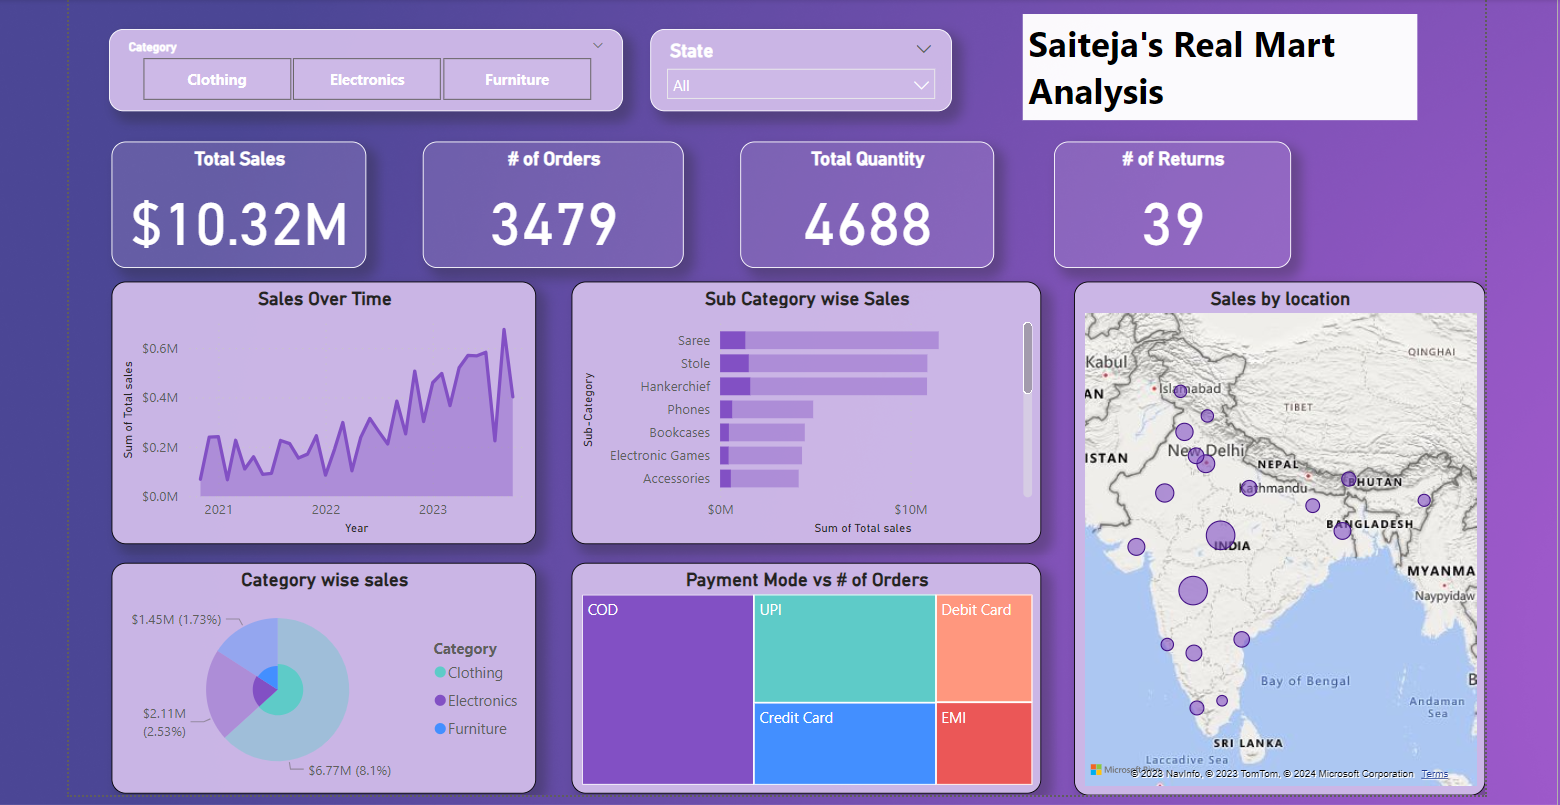

Layout of this report page (visuals, bound fields, positions):
{"tool":"powerbi","page":{"name":"Page 1","canvas":[1280,720],"ordinal":0},"visuals":[{"type":"card","title":"Total Sales","fields":{"Values":["Dataset.Total sales"]},"box":[38.4,128.9,230.6,114.2],"z":0},{"type":"card","title":"# of Returns","fields":{"Values":["Dataset.Returns"]},"box":[890.7,128.9,214.8,114.2],"z":1000},{"type":"card","title":"Total Quantity","fields":{"Values":["Dataset.Net quantity"]},"box":[607,128.9,229.5,114.2],"z":2000},{"type":"card","title":"# of Orders","fields":{"Values":["Dataset.Order ID"]},"box":[319.9,128.9,236.2,114.2],"z":3000},{"type":"stackedAreaChart","title":"Sales Over Time","fields":{"Category":["Dataset.Date.Variation.Date Hierarchy.Year","Dataset.Date.Variation.Date Hierarchy.Month"],"Y":["Dataset.Total sales"]},"box":[38.4,255.4,384.3,237.4],"z":4000},{"type":"pieChart","title":"Category wise sales","fields":{"Category":["Dataset.Category"],"Y":["Dataset.Total sales"]},"box":[38.4,509.8,384.3,209.1],"z":5000},{"type":"clusteredBarChart","title":"Sub Category wise Sales","fields":{"Category":["Dataset.Sub-Category"],"Y":["Dataset.Total sales"]},"box":[454.4,255.4,425,237.4],"z":6000},{"type":"treemap","title":"Payment Mode vs # of Orders","fields":{"Group":["Dataset.PaymentMode"],"Values":["Dataset.Order ID"]},"box":[454.4,509.8,425,209.1],"z":7000},{"type":"map","title":"Sales by location","fields":{"Category":["Dataset.State"],"Size":["Dataset.Total sales"]},"box":[908.8,255.4,371.9,464.6],"z":8000},{"type":"slicer","fields":{"Values":["Dataset.Category"]},"box":[36.2,27.1,464.6,74.6],"z":9000},{"type":"textbox","box":[862.4,13.6,357.2,96.1],"z":10000},{"type":"slicer","fields":{"Values":["Dataset.State"]},"box":[525.6,27.1,272.4,74.6],"z":11000}]}

Visuals, with their boxes in screenshot pixels (x1, y1, x2, y2):
"Total Sales" card: l=111, t=138, r=365, b=264
"# of Returns" card: l=1050, t=138, r=1287, b=264
"Total Quantity" card: l=738, t=138, r=991, b=264
"# of Orders" card: l=422, t=138, r=682, b=264
"Sales Over Time" stackedAreaChart: l=111, t=277, r=535, b=539
"Category wise sales" pieChart: l=111, t=558, r=535, b=788
"Sub Category wise Sales" clusteredBarChart: l=570, t=277, r=1038, b=539
"Payment Mode vs # of Orders" treemap: l=570, t=558, r=1038, b=788
"Sales by location" map: l=1070, t=277, r=1480, b=789
slicer - Dataset.Category: l=109, t=26, r=621, b=108
textbox: l=1019, t=11, r=1413, b=117
slicer - Dataset.State: l=648, t=26, r=948, b=108
